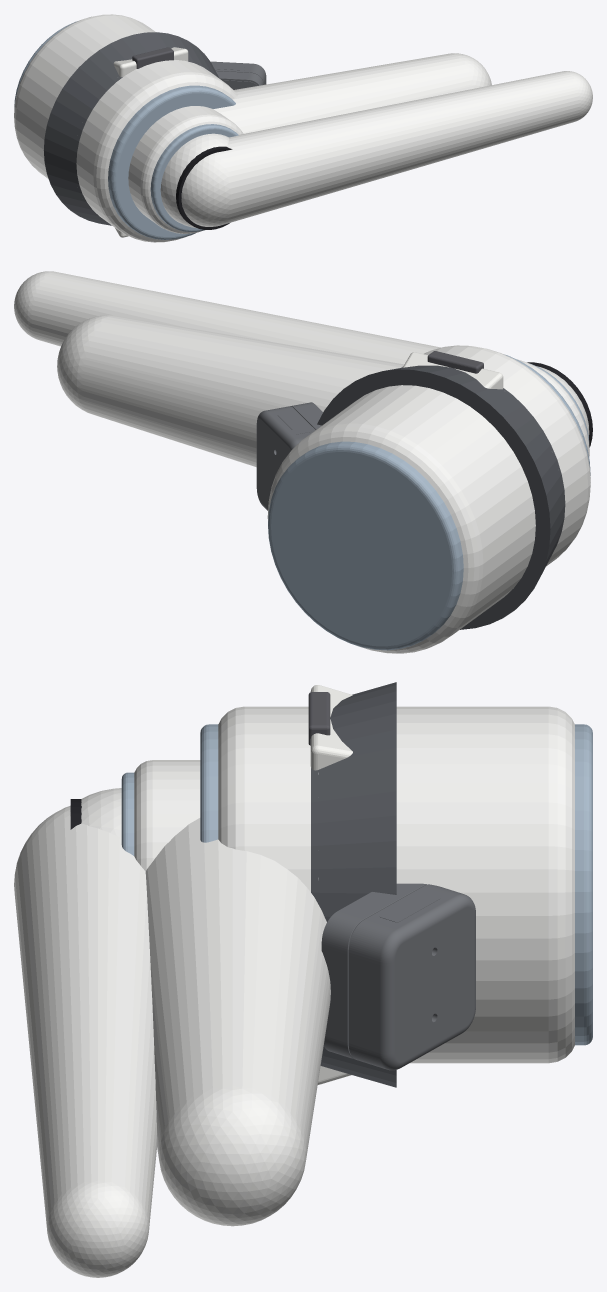
Rendered from arm.glb.
3 renders of one model, top to bottom at view 1: azimuth 30°, elevation 25°; view 2: azimuth 150°, elevation 25°; view 3: azimuth 270°, elevation 25°, orthographic. The views are drawn at different scales.
Parts seen in each view (by area): view 1: b3, b4, b1, b2, b8, b6; view 2: b3, b4, b1, b8, b2, b6; view 3: b3, b4, b8, b1, b2.
Boxes of the visible parts, left/top/right/bottom form: b3: left=14, top=14, right=491, bottom=242; b4: left=181, top=71, right=592, bottom=226; b1: left=43, top=32, right=219, bottom=225; b2: left=128, top=106, right=243, bottom=233; b8: left=113, top=47, right=266, bottom=237; b6: left=176, top=146, right=232, bottom=229; b3: left=57, top=315, right=590, bottom=653; b4: left=14, top=271, right=440, bottom=364; b1: left=317, top=365, right=565, bottom=629; b8: left=256, top=351, right=503, bottom=510; b2: left=517, top=359, right=589, bottom=456; b6: left=527, top=362, right=592, bottom=446; b3: left=145, top=706, right=592, bottom=1226; b4: left=14, top=806, right=157, bottom=1277; b8: left=308, top=685, right=475, bottom=1084; b1: left=311, top=682, right=396, bottom=1087; b2: left=70, top=760, right=200, bottom=871.
Size of the model in its own units: 0.2916 by 0.1114 by 0.1588.
